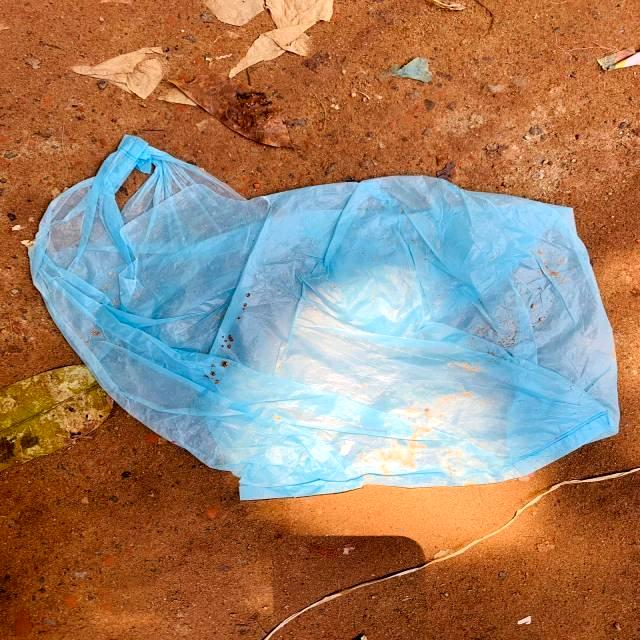polythene: (28, 133, 624, 507)
